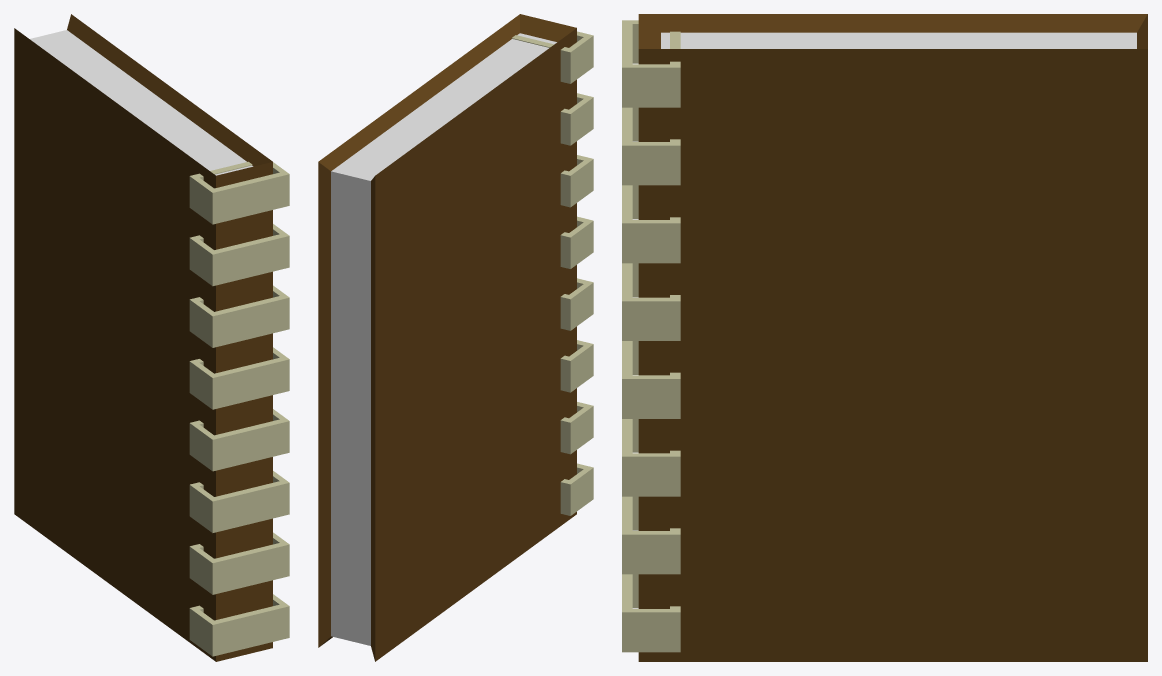
File: FBX_Book.fbx
3 renders of one model, left to right at view 1: azimuth 30°, elevation 25°; view 2: azimuth 150°, elevation 25°; view 3: azimuth 270°, elevation 25°, orthographic. The views are drawn at different scales.
Parts seen in each view (by area): view 1: Book, Argolas; view 2: Book, Argolas; view 3: Book, Argolas.
Part boxes in pixels (left/top/right/bottom): Book: left=14, top=14, right=272, bottom=661; Argolas: left=189, top=161, right=289, bottom=656; Book: left=318, top=14, right=576, bottom=661; Argolas: left=512, top=31, right=593, bottom=515; Book: left=638, top=14, right=1147, bottom=661; Argolas: left=622, top=20, right=680, bottom=652.
Bounding box in the file's own units: 536 × 3231 × 2512.
